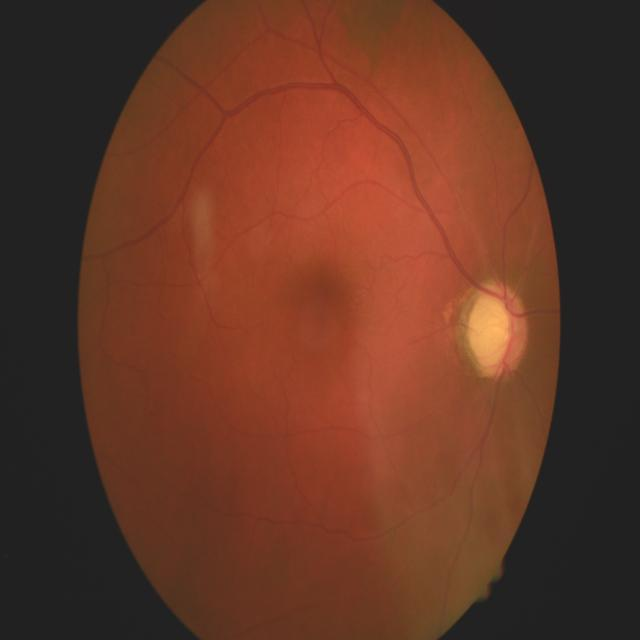cup: (469, 292, 513, 374)
disk: (465, 284, 528, 380)
